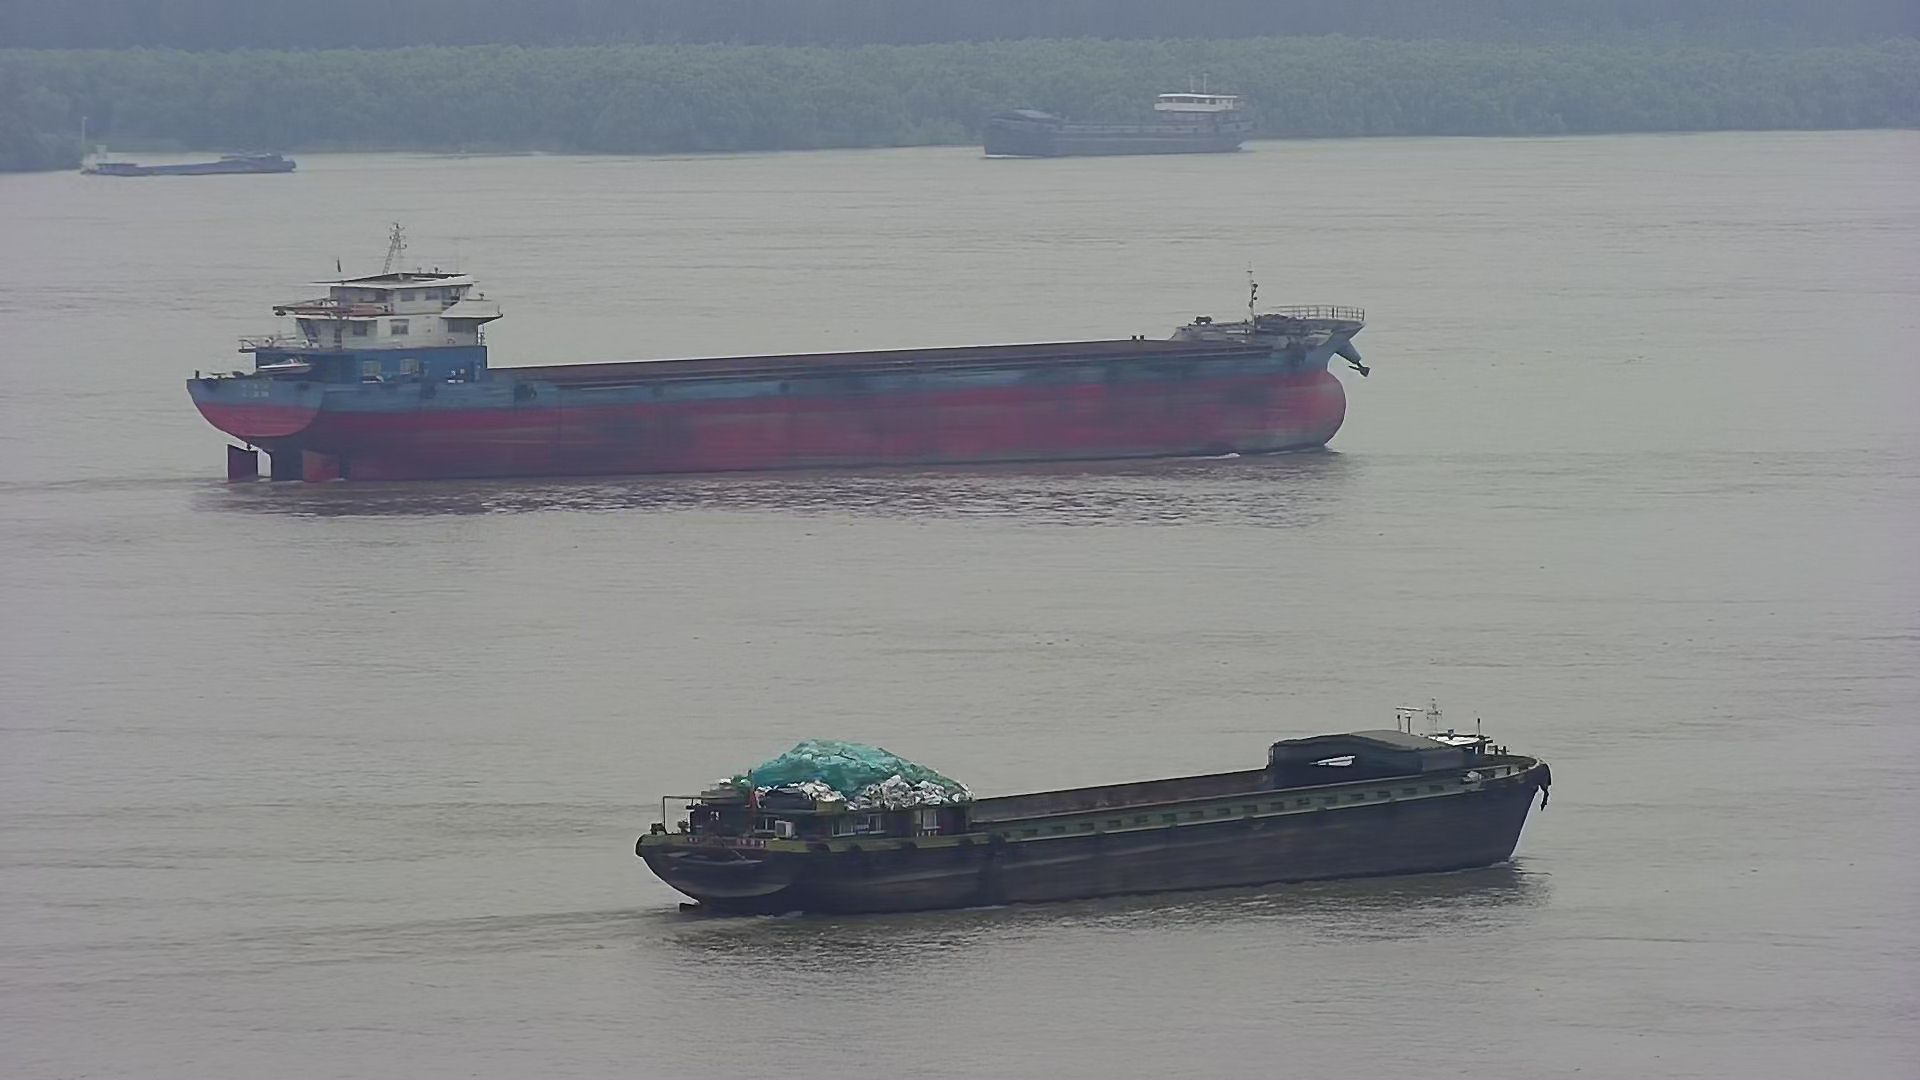boat: (86, 153, 301, 181)
ship: (179, 236, 1377, 477), (632, 695, 1557, 913), (989, 76, 1253, 156)
